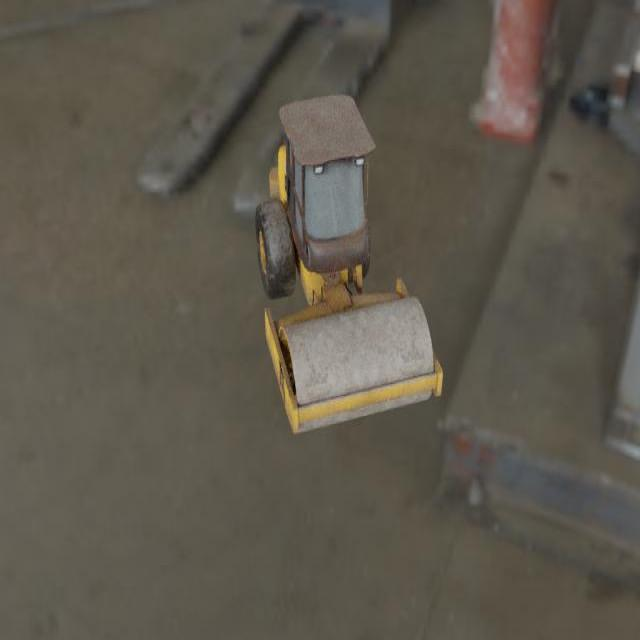Roller: (254, 94, 443, 434)
